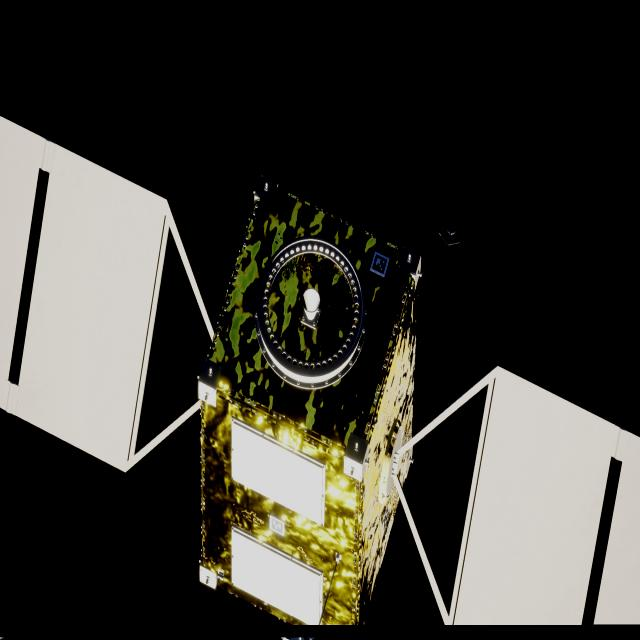satellite: (0, 117, 640, 629)
